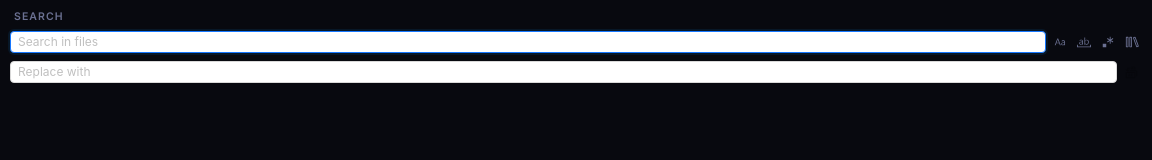
searching every project › says plainly when nothing matched anywhere
Click the button named "search every project" at [1132, 42], box [1122,31,1142,53]
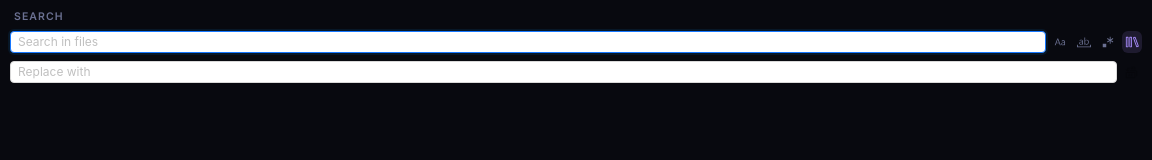
Type "nowhere" into the field with placeholder "Search in files" at [520, 42], box [18,32,1022,52]
Wait 400 ms
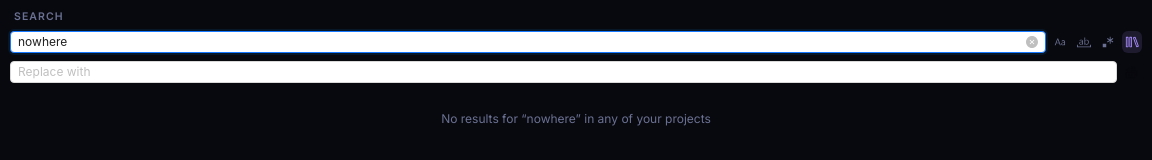
Now the text "No results for “nowhere” in any of your projects" is shown, box [441,111,711,126]
